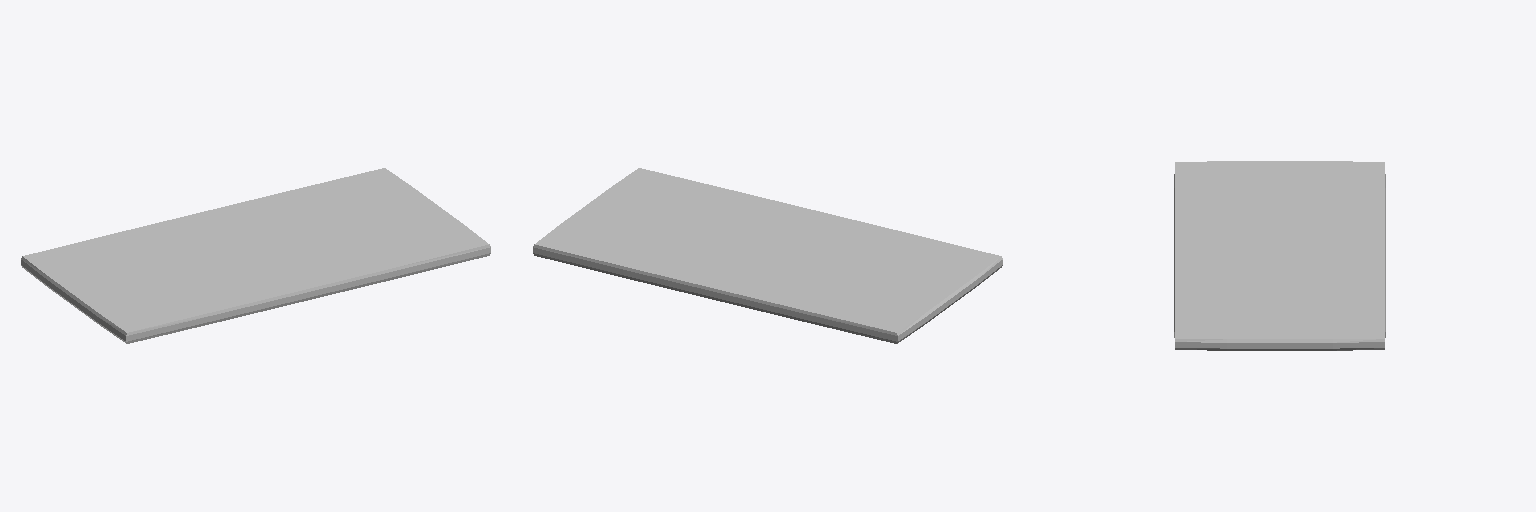
File: cube_NewUVs.OBJ
3 renders of one model, left to right at view 1: azimuth 30°, elevation 25°; view 2: azimuth 150°, elevation 25°; view 3: azimuth 270°, elevation 25°, orthographic.
Parts seen in each view (by area): view 1: ZBrush_defualt_group; view 2: ZBrush_defualt_group; view 3: ZBrush_defualt_group.
Boxes of the visible parts, <box> form: ZBrush_defualt_group: <box>21,168,490,343</box>; ZBrush_defualt_group: <box>533,168,1002,343</box>; ZBrush_defualt_group: <box>1174,161,1385,350</box>.
Bounding box in the file's own units: 4.18 × 0.125 × 2.09.